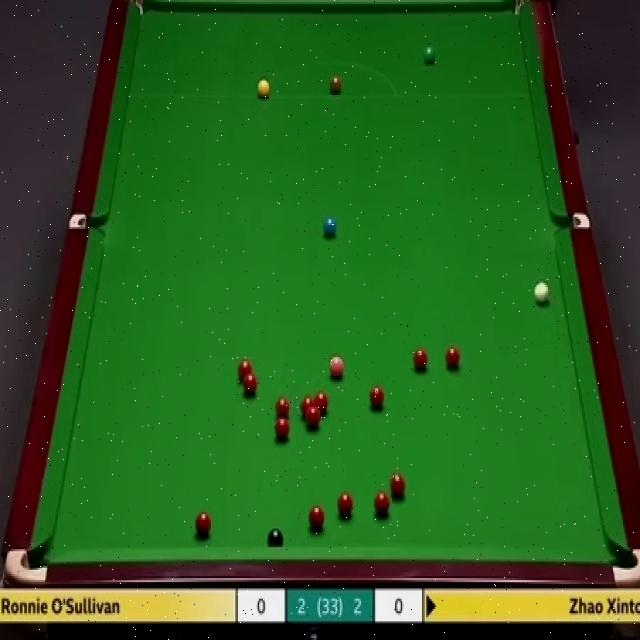black-ball: (267, 529, 283, 546)
blue-ball: (322, 216, 336, 238)
brown-ball: (328, 75, 342, 95)
green-ball: (424, 43, 435, 63)
pink-ball: (327, 350, 343, 374)
red-ball: (337, 492, 354, 520), (194, 510, 212, 536), (307, 504, 325, 530), (241, 371, 259, 396), (273, 414, 289, 442), (306, 405, 322, 433), (391, 471, 406, 500), (312, 390, 329, 415), (448, 348, 465, 372), (374, 492, 391, 515), (370, 384, 385, 409), (235, 359, 252, 381), (302, 396, 316, 421), (413, 349, 429, 370)
white-ball: (533, 280, 549, 303)
yellow-ball: (255, 79, 271, 99)
